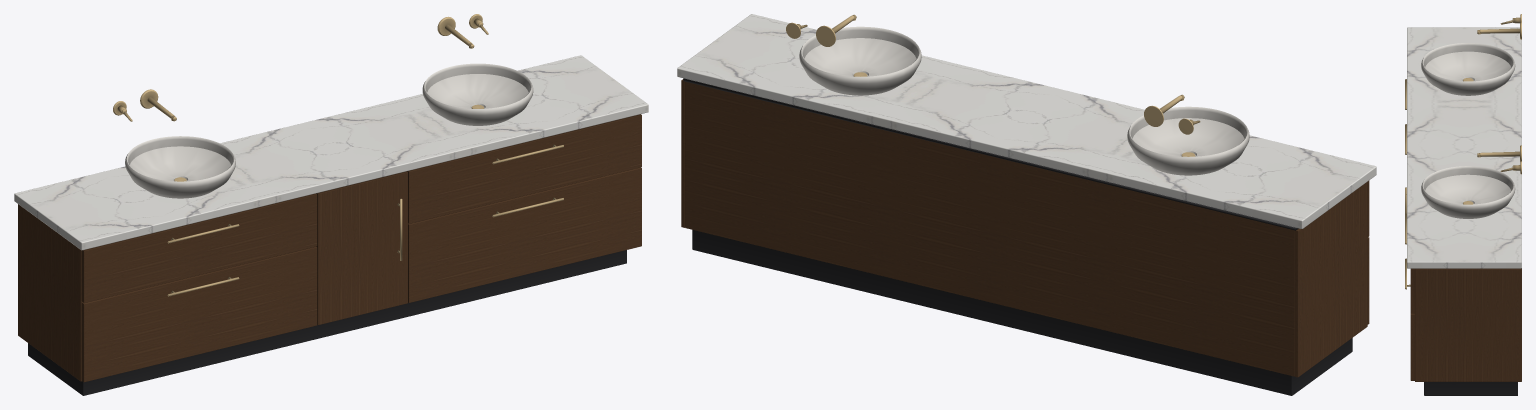
Rendered from bath_vanity.gltf.
The picture shows the model from 3 angles, left to right: view 1: azimuth 30°, elevation 25°; view 2: azimuth 150°, elevation 25°; view 3: azimuth 270°, elevation 25°; orthographic projection. The views are drawn at different scales.
Parts seen in each view (by area): view 1: BathVanity_Cabinet, BathVanity_Top, BathVanity_Basins, BathVanity_Plinth, BathVanity_PipingBrass; view 2: BathVanity_Cabinet, BathVanity_Top, BathVanity_Plinth, BathVanity_Basins, BathVanity_PipingShadow, BathVanity_PipingBrass; view 3: BathVanity_Top, BathVanity_Cabinet, BathVanity_Basins, BathVanity_Plinth, BathVanity_PipingBrass.
Part boxes in pixels (<box>): BathVanity_Cabinet: <box>18,114,641,382</box>; BathVanity_Top: <box>14,55,648,250</box>; BathVanity_Basins: <box>125,63,533,198</box>; BathVanity_Plinth: <box>28,250,626,395</box>; BathVanity_PipingBrass: <box>113,14,563,296</box>; BathVanity_Cabinet: <box>681,79,1369,377</box>; BathVanity_Top: <box>677,14,1376,228</box>; BathVanity_Plinth: <box>692,230,1352,395</box>; BathVanity_Basins: <box>799,26,1249,175</box>; BathVanity_PipingShadow: <box>683,78,1298,230</box>; BathVanity_PipingBrass: <box>786,14,1200,156</box>; BathVanity_Top: <box>1407,27,1521,268</box>; BathVanity_Cabinet: <box>1410,268,1521,381</box>; BathVanity_Basins: <box>1421,43,1515,218</box>; BathVanity_Plinth: <box>1424,382,1517,395</box>; BathVanity_PipingBrass: <box>1405,14,1521,289</box>.
Size of the model in its own units: 2.9 by 1.14 by 0.6095.
5 materials, 2 textured.
